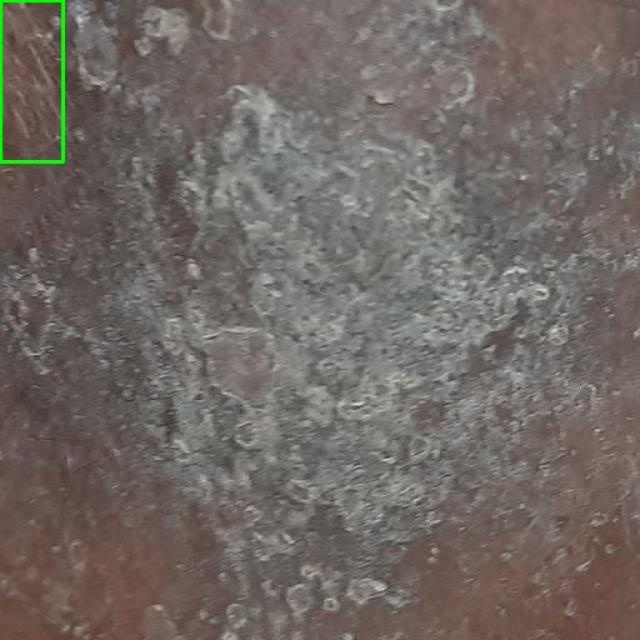Tinea Corporis: (0, 0, 62, 161)
